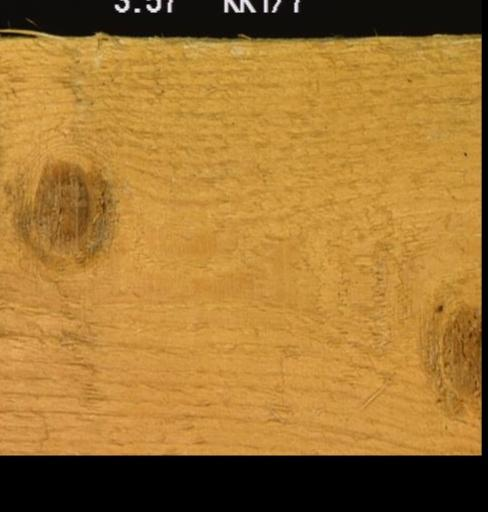sound_knot: (14, 156, 121, 269), (418, 294, 480, 423)
